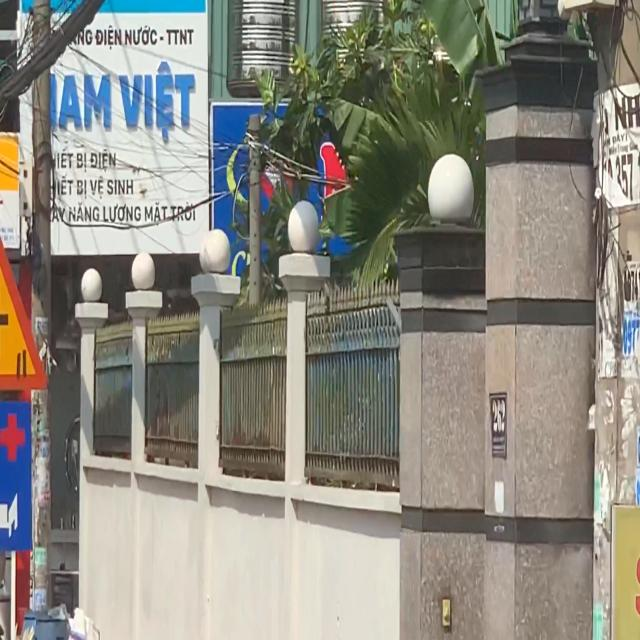Chi dan: (0, 396, 33, 559)
Giao voi duong khong uu tien: (0, 188, 49, 392)
